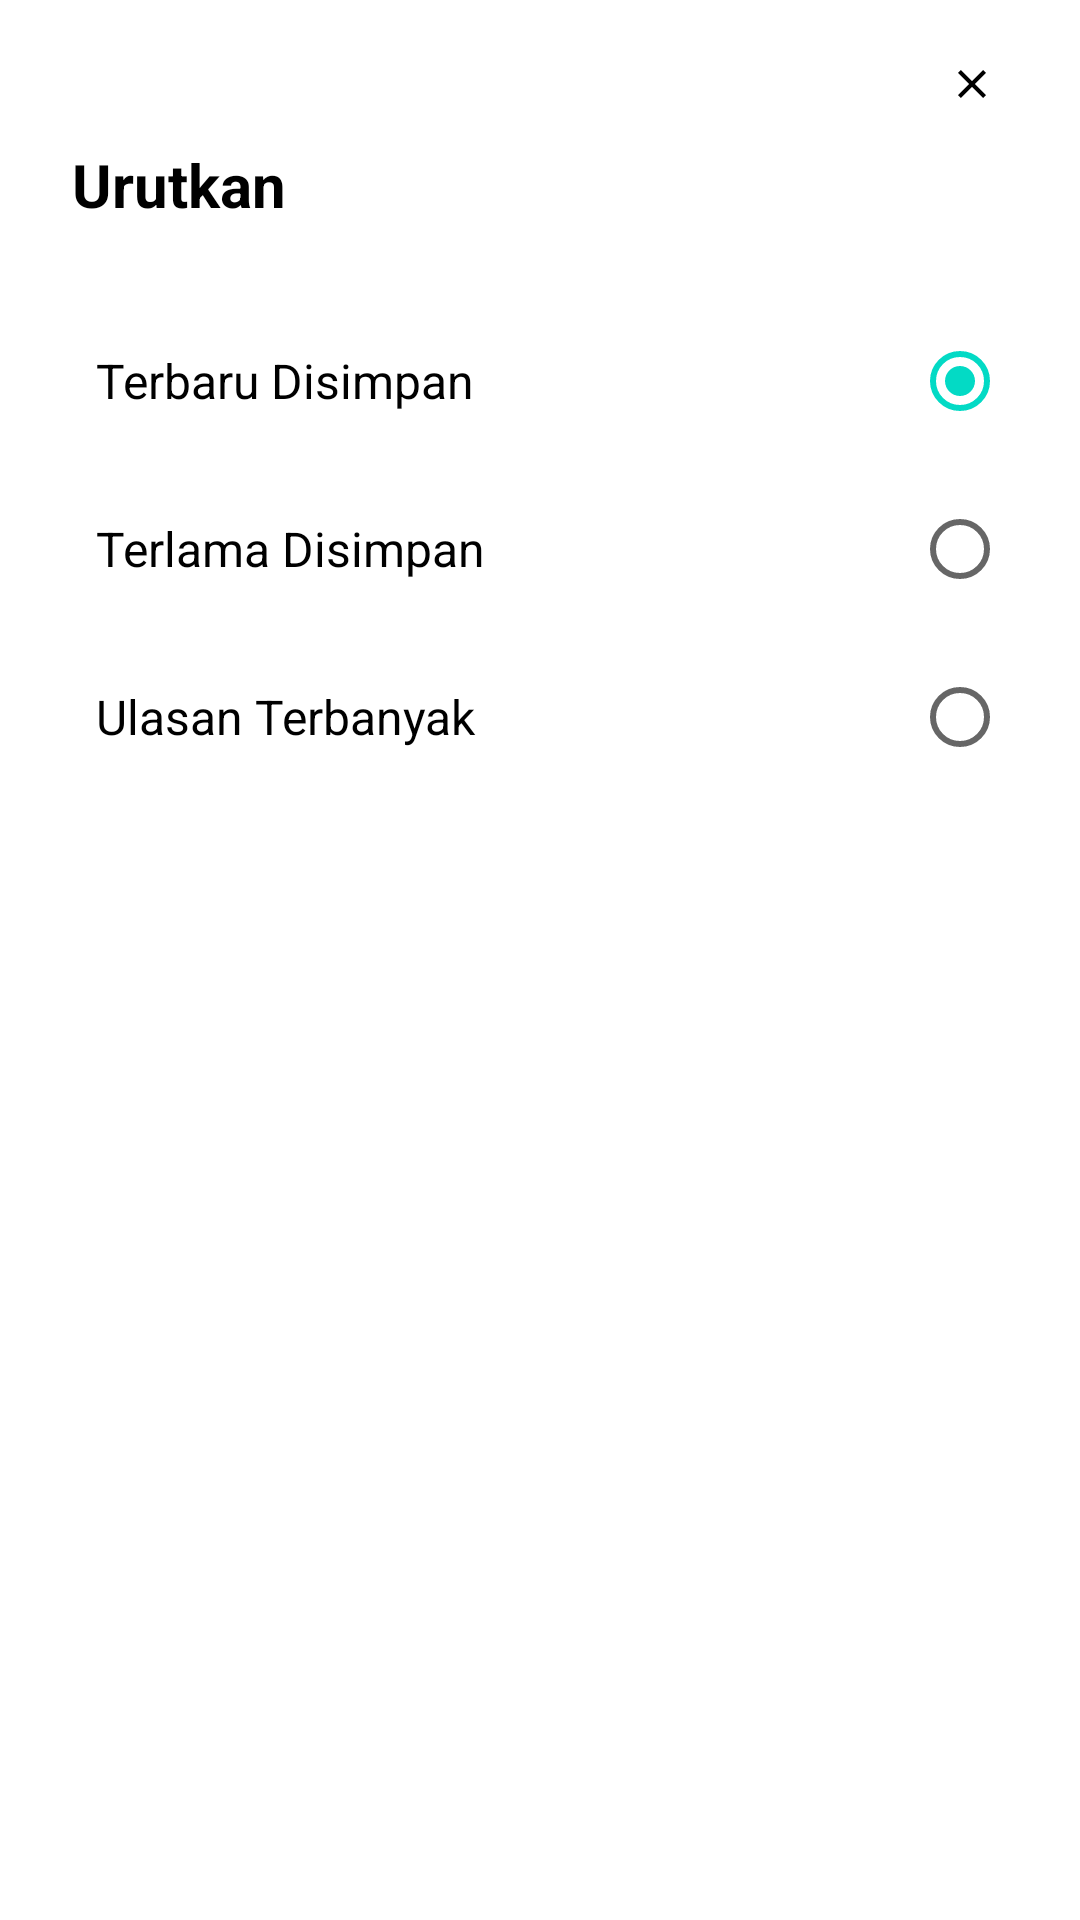

Screen size 1080×1920. Icon name, then its box in pixels as region(x1, y1, x2, y2):
close: region(958, 70, 986, 98)
